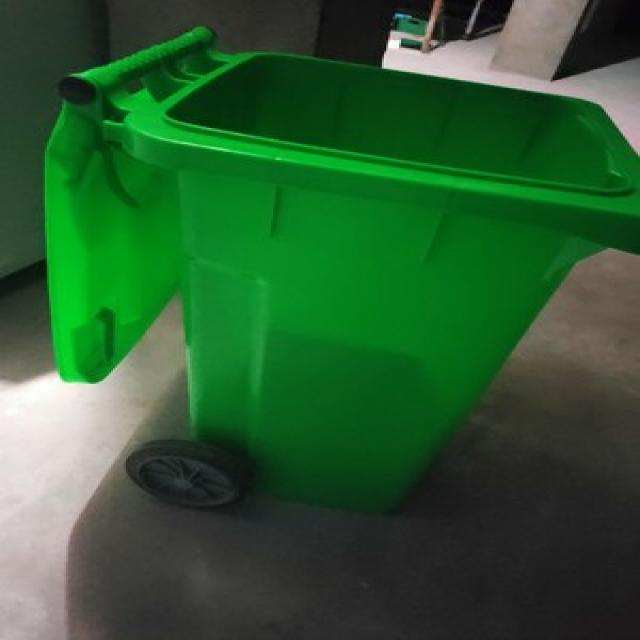ash bin: (40, 26, 638, 516)
